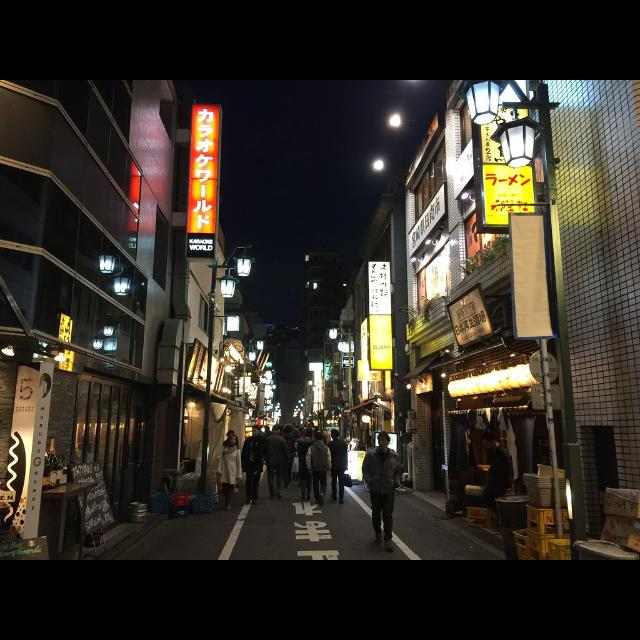head: (482, 433, 498, 449), (378, 432, 390, 450), (252, 427, 262, 438), (304, 428, 314, 438), (314, 433, 324, 442), (228, 431, 236, 441), (272, 426, 282, 434), (331, 430, 339, 440), (230, 436, 238, 444)
person: (361, 430, 403, 554), (476, 428, 514, 536), (240, 424, 266, 506), (216, 435, 244, 511), (262, 426, 290, 500), (305, 433, 333, 507), (326, 429, 350, 505), (220, 429, 240, 499), (298, 428, 316, 500)
